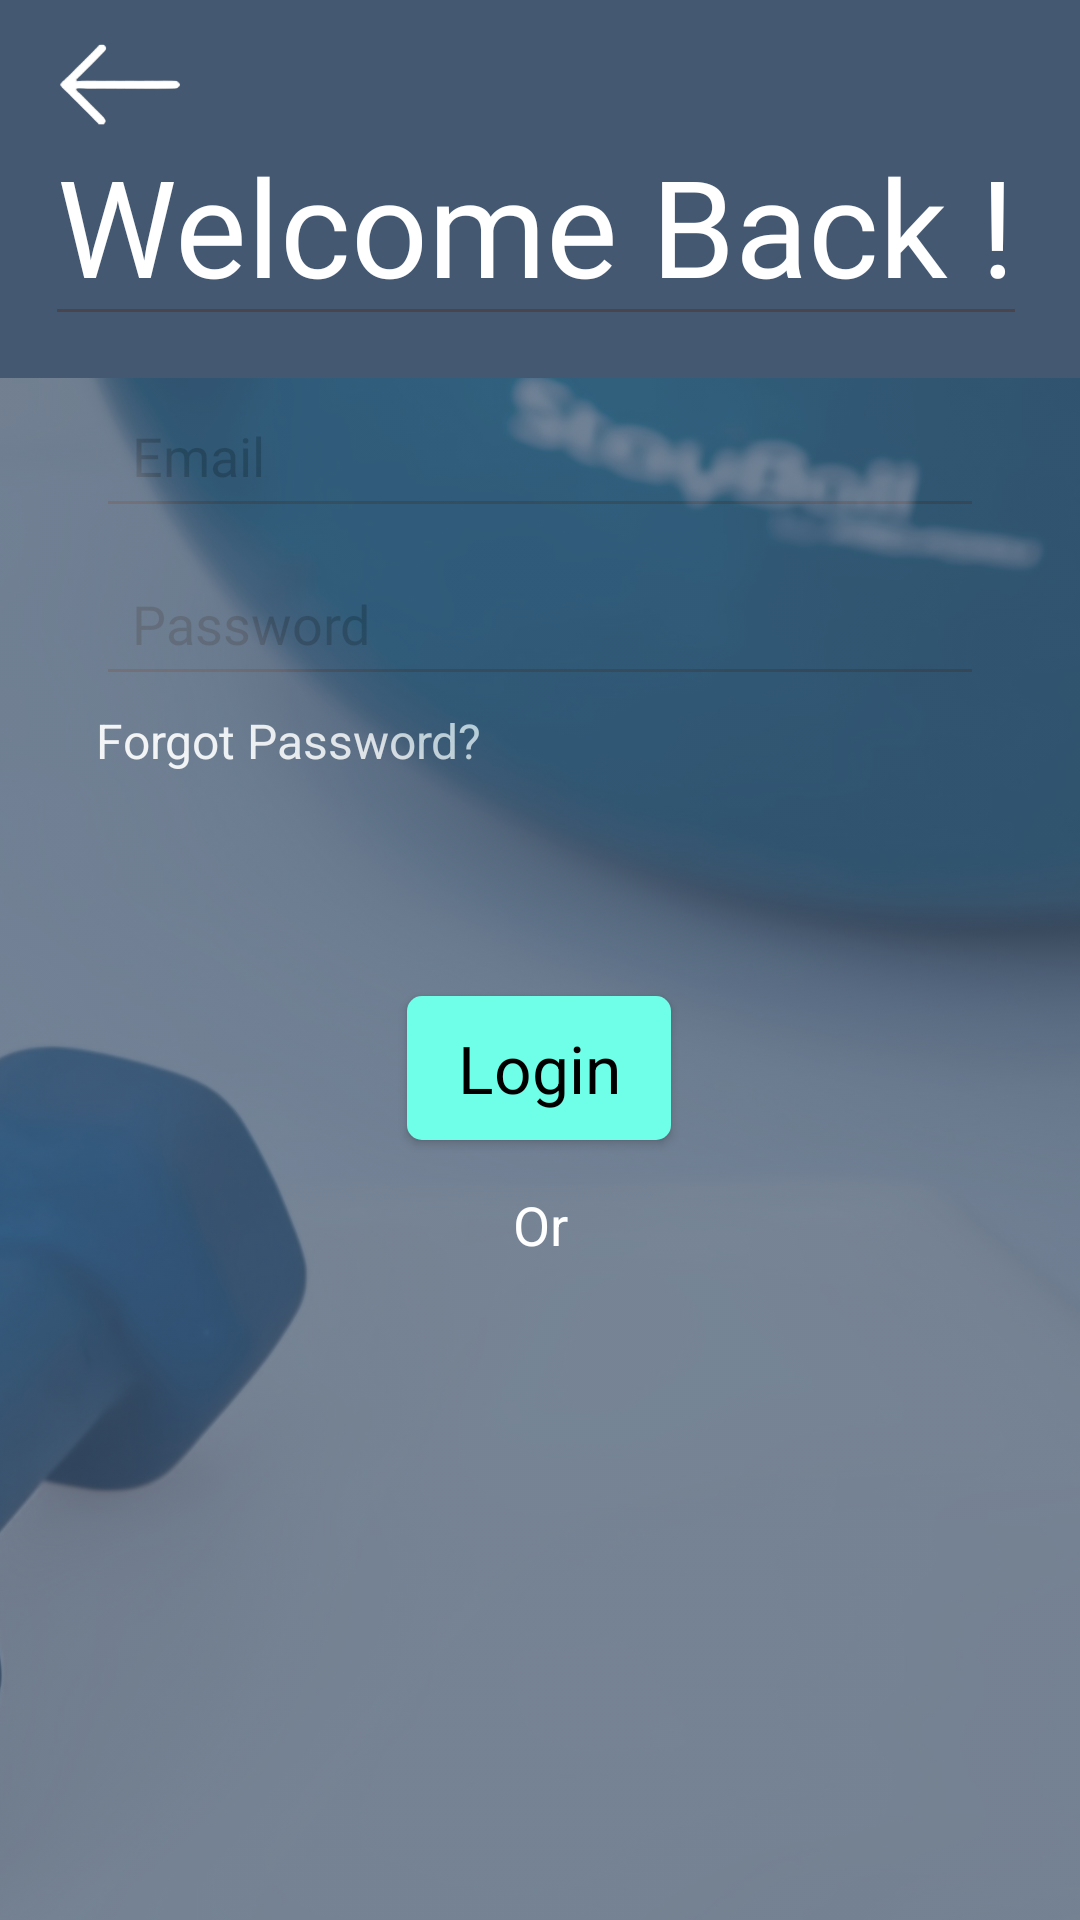

Named icons in this screenshot (1080w x 1920h) and their centers, point (x, y):
Back Arrow: point (120, 84)
